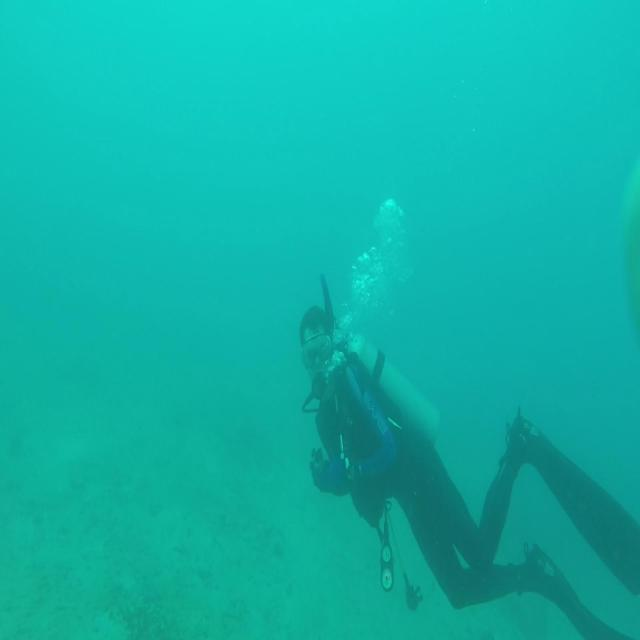human: (298, 288, 639, 637)
